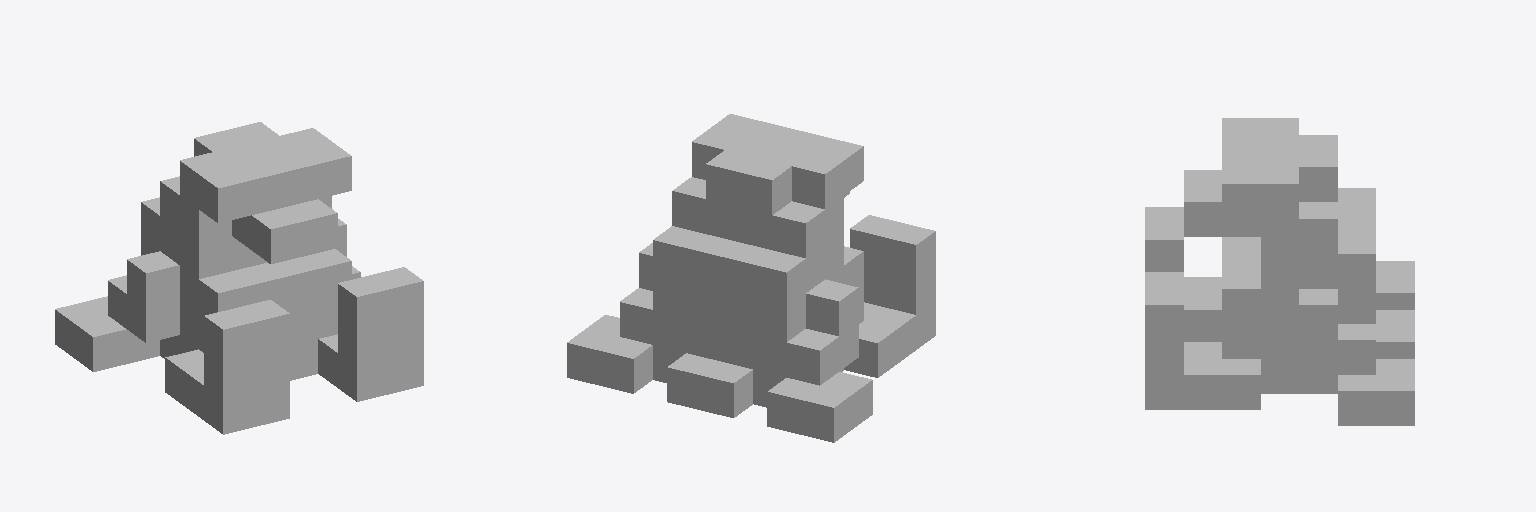
The model's file is MoleSat.obj.
3 views of the same model, side by side, from view 1: azimuth 30°, elevation 25°; view 2: azimuth 150°, elevation 25°; view 3: azimuth 270°, elevation 25° (orthographic).
Size of the model in its own units: 8 by 6 by 7.